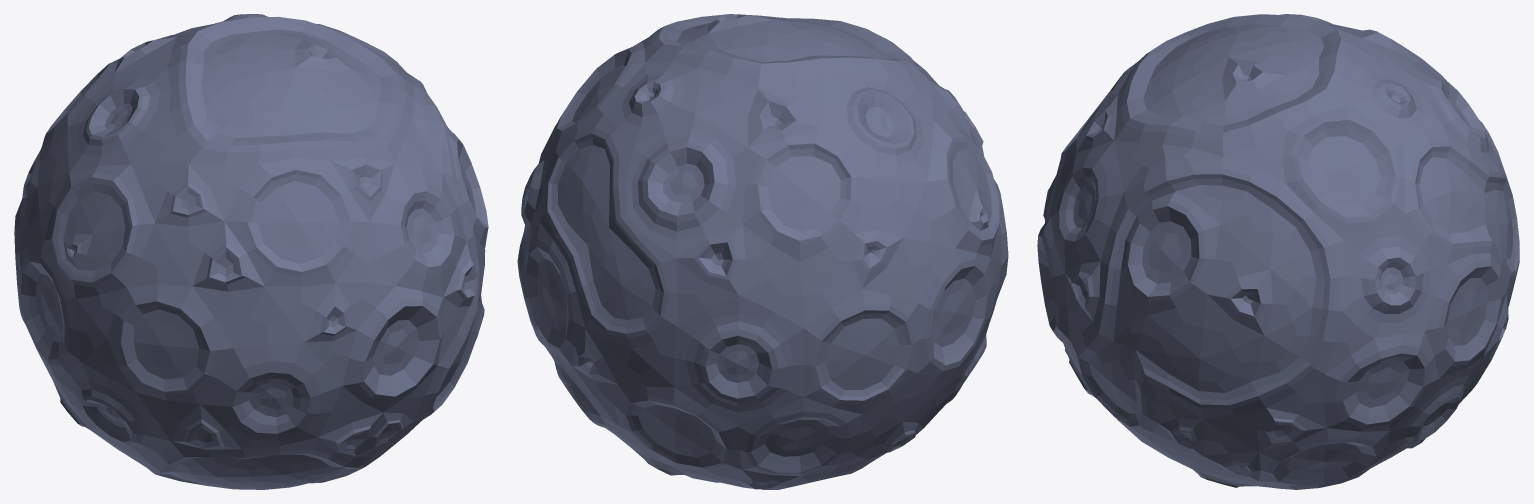
Rendered from Moon.fbx.
3 views of the same model, side by side, from view 1: azimuth 30°, elevation 25°; view 2: azimuth 150°, elevation 25°; view 3: azimuth 270°, elevation 25° (orthographic).
Visible parts, largest first — view 1: 1226 Moon; view 2: 1226 Moon; view 3: 1226 Moon.
Boxes of the visible parts, box(x1,y1,x2,y2) form: 1226 Moon: box(14, 14, 488, 489); 1226 Moon: box(517, 14, 1008, 489); 1226 Moon: box(1037, 14, 1519, 489).
Bounding box in the file's own units: 7423 × 7397 × 7595.
